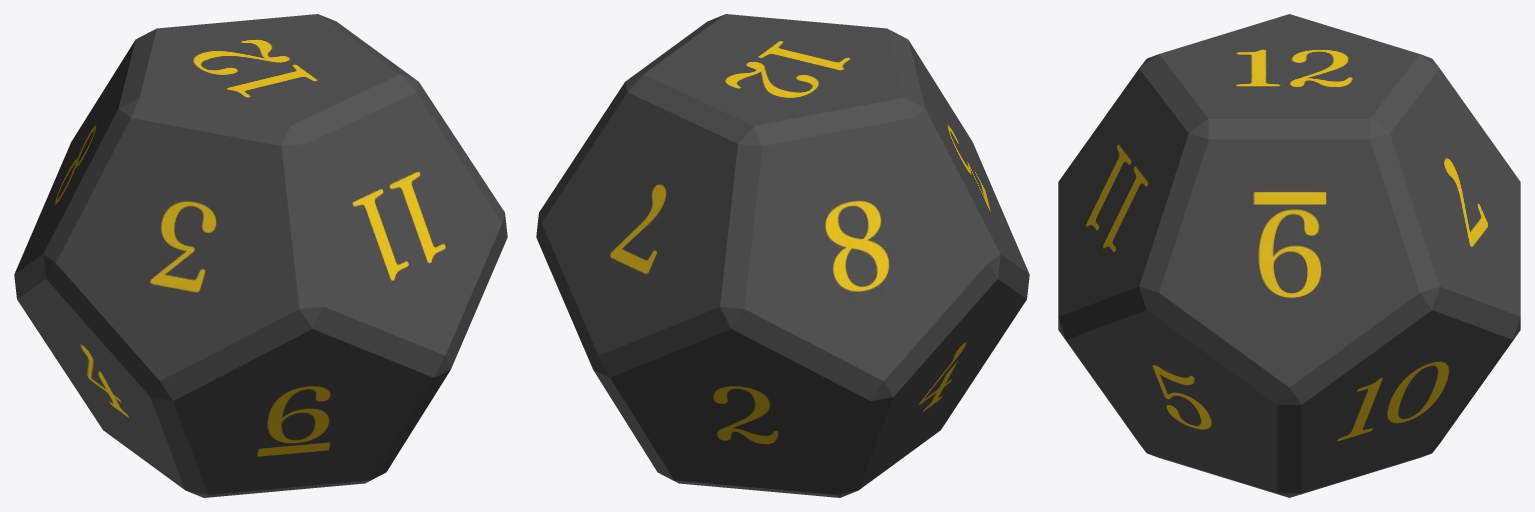
The model's file is D12Gilded.glb.
3 views of the same model, side by side, from view 1: azimuth 30°, elevation 25°; view 2: azimuth 150°, elevation 25°; view 3: azimuth 270°, elevation 25° (orthographic). The views are drawn at different scales.
Visible parts, largest first — view 1: D12Gilded; view 2: D12Gilded; view 3: D12Gilded.
Boxes of the visible parts, x1=… form: D12Gilded: x1=14, y1=14, x2=507, y2=497; D12Gilded: x1=536, y1=14, x2=1029, y2=497; D12Gilded: x1=1058, y1=14, x2=1520, y2=497.
Size of the model in its own units: 2.8 by 2.34 by 2.66.
Materials: 1 (1 with a texture image).
